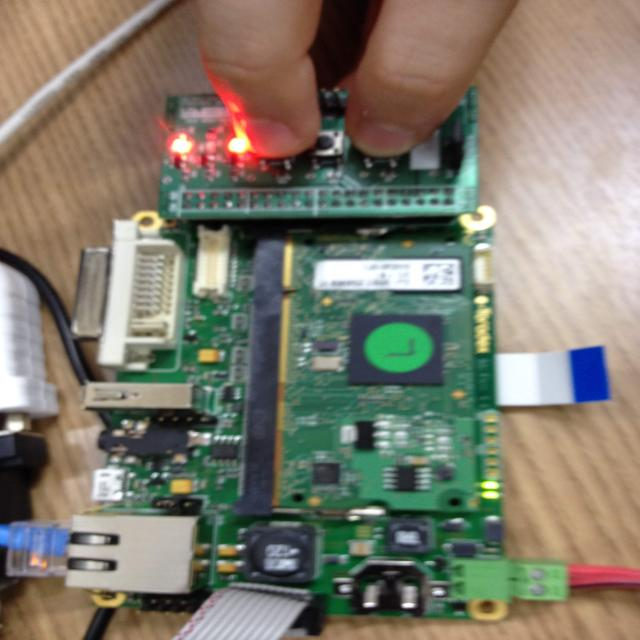som: (261, 241, 486, 517)
